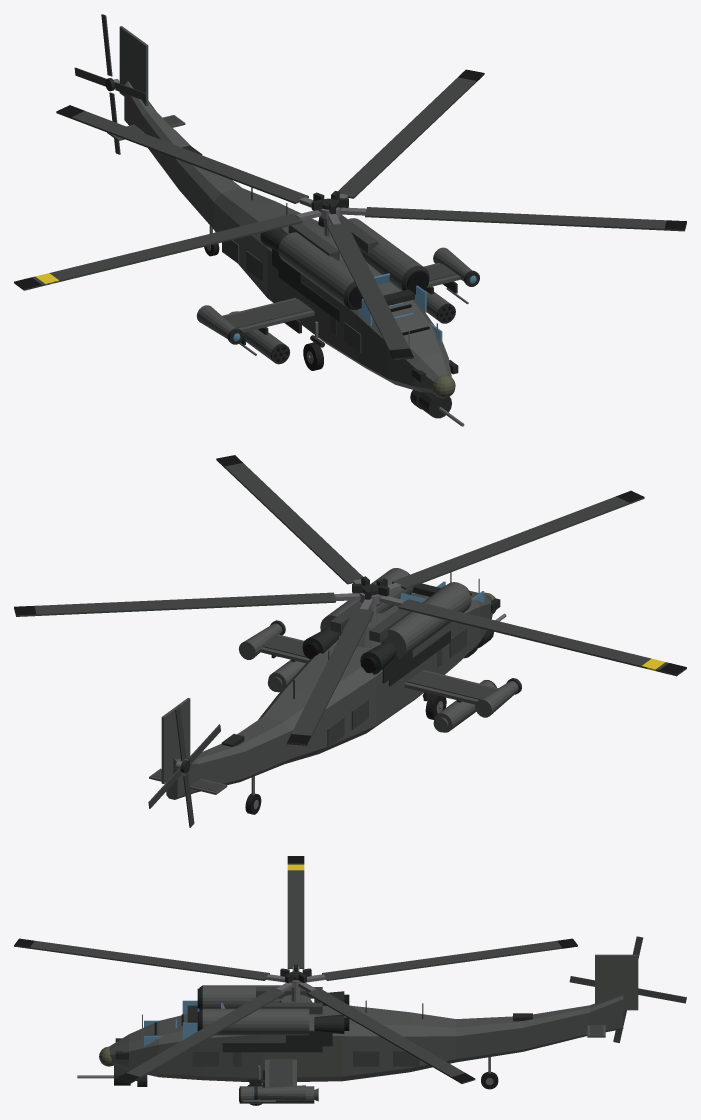
The model's file is heli_attack.glb.
3 renders of one model, top to bottom at view 1: azimuth 30°, elevation 25°; view 2: azimuth 150°, elevation 25°; view 3: azimuth 270°, elevation 25°, orthographic. The views are drawn at different scales.
Visible parts, largest first — view 1: Body, Rotor, TailRotor; view 2: Body, Rotor, TailRotor; view 3: Body, Rotor, TailRotor.
Boxes of the visible parts, bbox=[...] form: Body: bbox=[107, 26, 479, 426]; Rotor: bbox=[14, 69, 686, 360]; TailRotor: bbox=[74, 14, 147, 154]; Body: bbox=[149, 568, 521, 814]; Rotor: bbox=[14, 455, 686, 745]; TailRotor: bbox=[148, 705, 220, 827]; Body: bbox=[77, 954, 638, 1105]; Rotor: bbox=[14, 856, 577, 1083]; TailRotor: bbox=[569, 936, 686, 1042].
Size of the model in its own units: 16.07 by 4.81 by 20.16.
